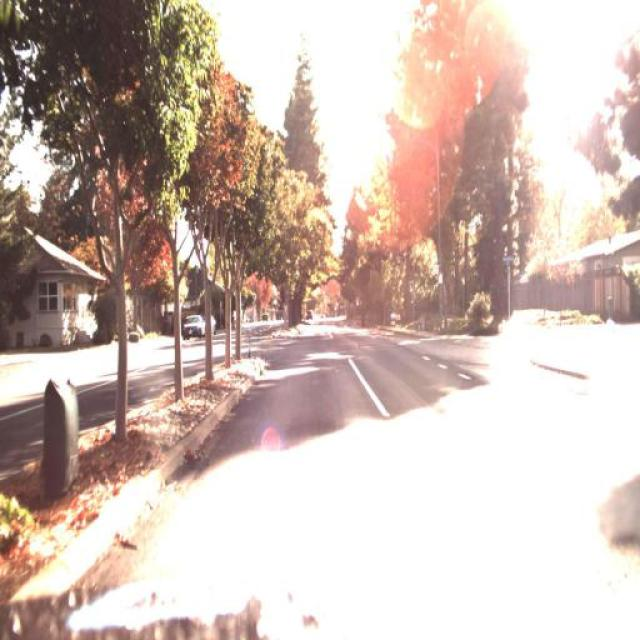car: (179, 301, 207, 349)
